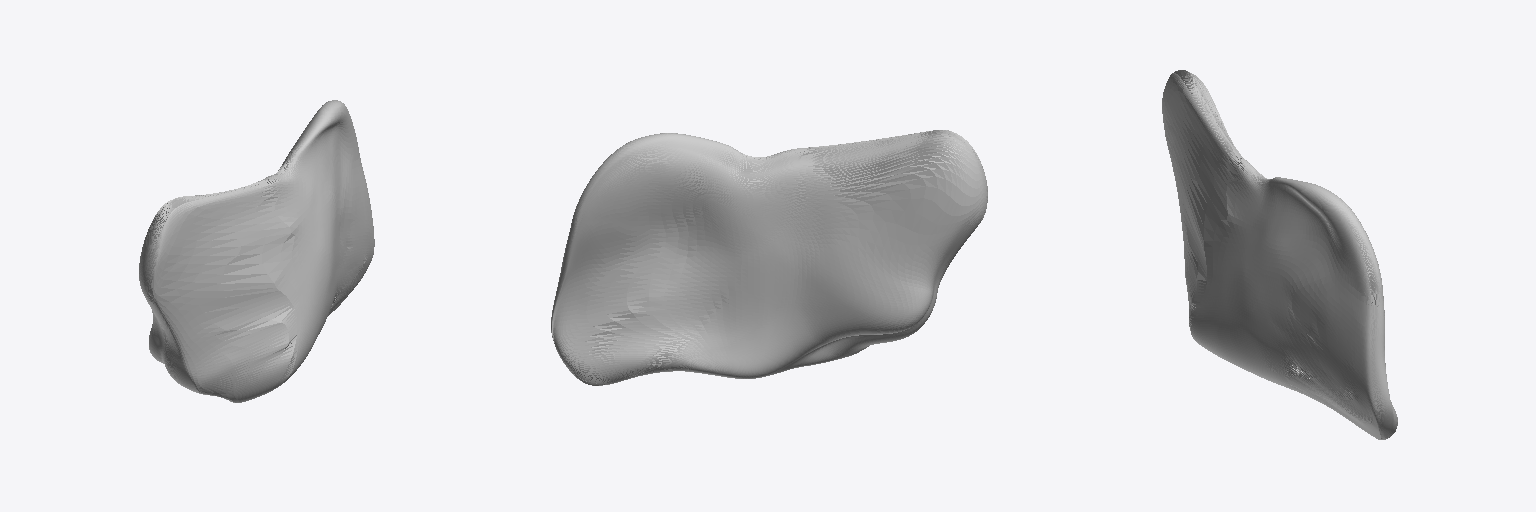
The model's file is rock_wall2.obj.
3 views of the same model, side by side, from view 1: azimuth 30°, elevation 25°; view 2: azimuth 150°, elevation 25°; view 3: azimuth 270°, elevation 25° (orthographic).
Visible parts, largest first — view 1: Quad_Sphere; view 2: Quad_Sphere; view 3: Quad_Sphere.
Boxes of the visible parts, <box> form: Quad_Sphere: <box>139,100,374,402</box>; Quad_Sphere: <box>551,130,987,385</box>; Quad_Sphere: <box>1162,70,1397,439</box>.
Size of the model in its own units: 7.36 by 5.21 by 4.56.